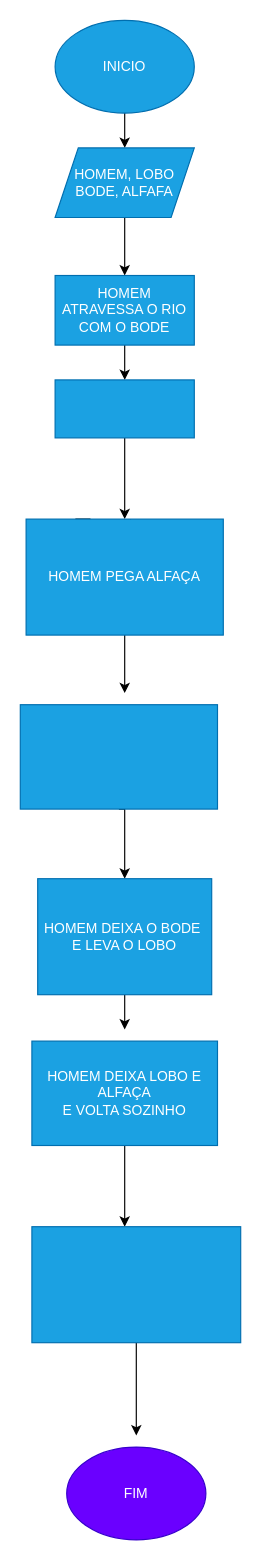
Image size: 261x1560. Some labels were removed from this diagram. The box of each missing label's shape, as (x1, y1, x2, y2) in pixels:
DEIXA O BODE LÁ, E VOLTA SOZINHO: (54, 379, 194, 438)
HOMEM LEVA O BODE CONSEGUINDO A INTEGRIDADE DOS 3: (31, 1226, 241, 1343)
HOMEM VOLTA COM O BODE: (19, 704, 217, 809)
